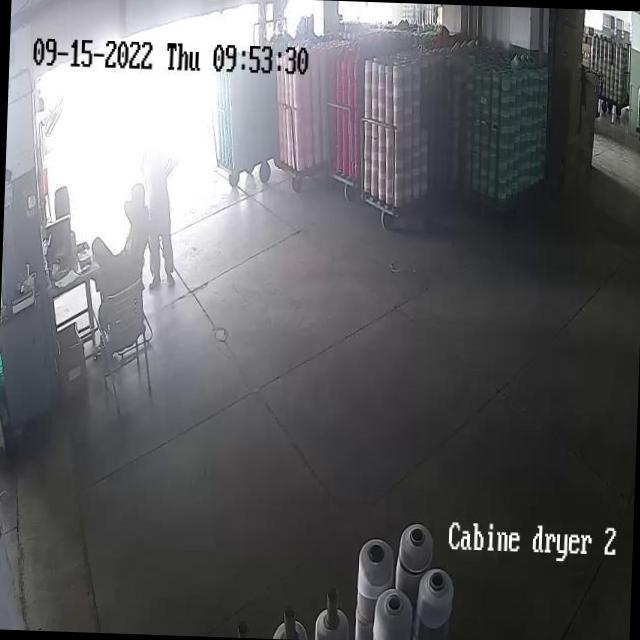person: (88, 185, 157, 295), (144, 134, 181, 286)
